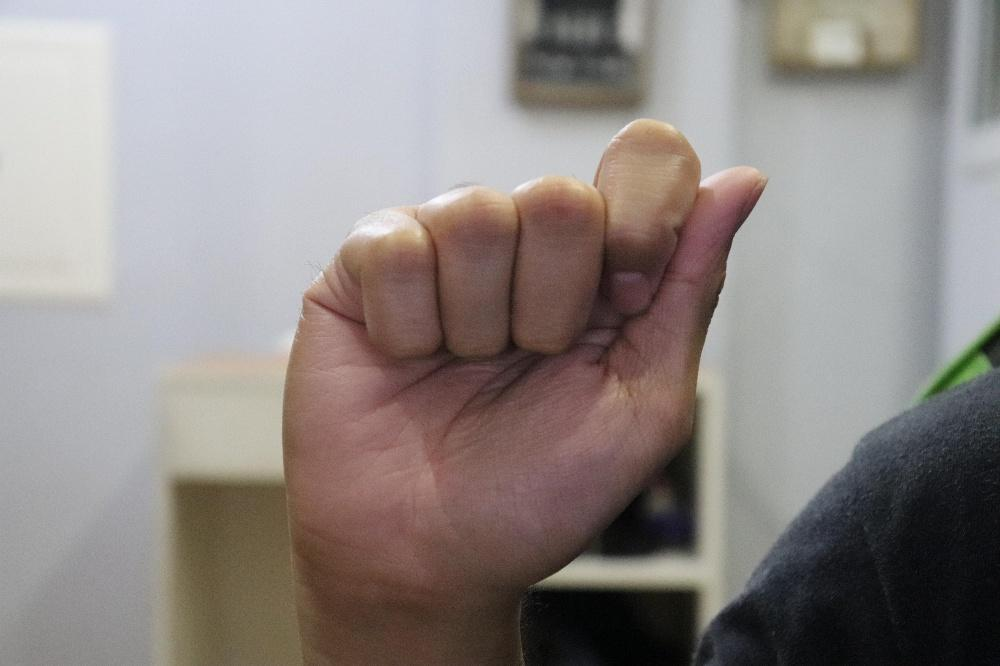a: (280, 117, 766, 589)
